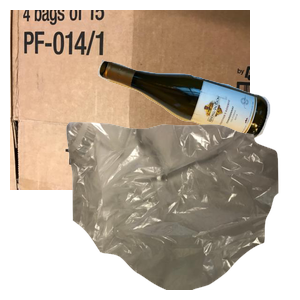cardboard: (10, 10, 250, 190)
glass: (95, 57, 300, 189)
plastic: (91, 152, 281, 300)
trash: (64, 120, 300, 300)
